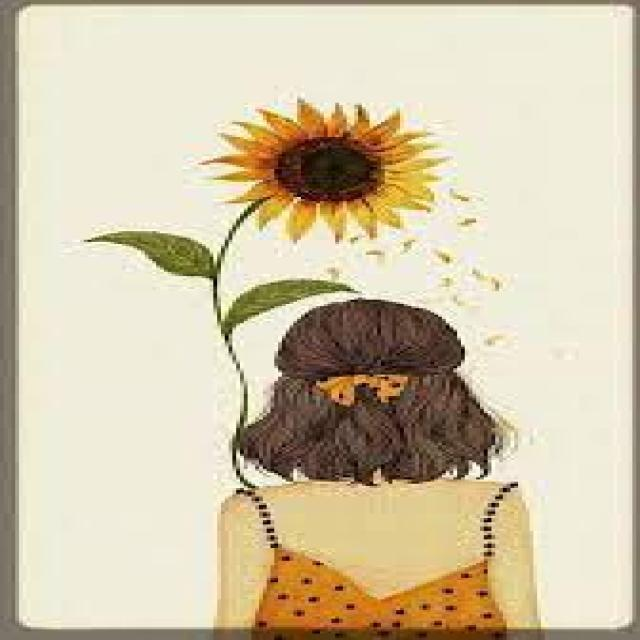sunflower: (194, 96, 446, 242)
